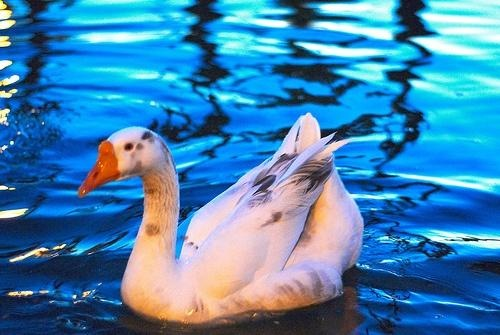bird: (76, 112, 366, 328)
